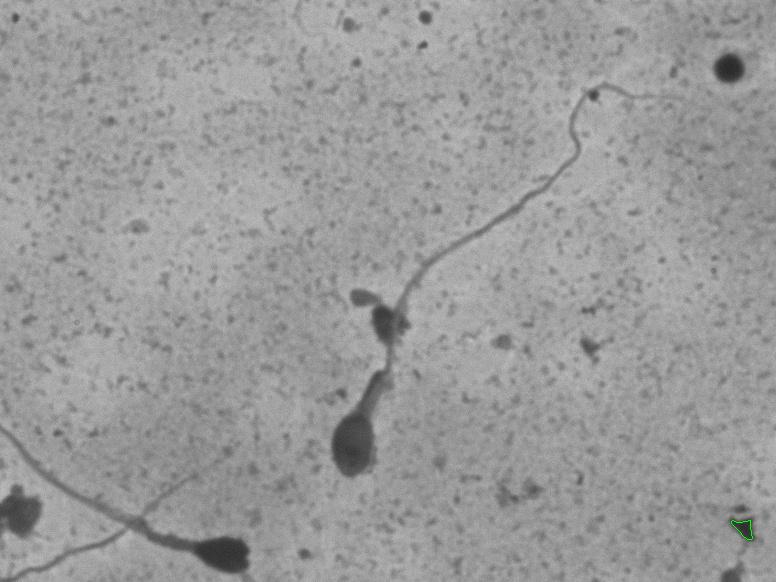Abnormal: (320, 66, 670, 502)
